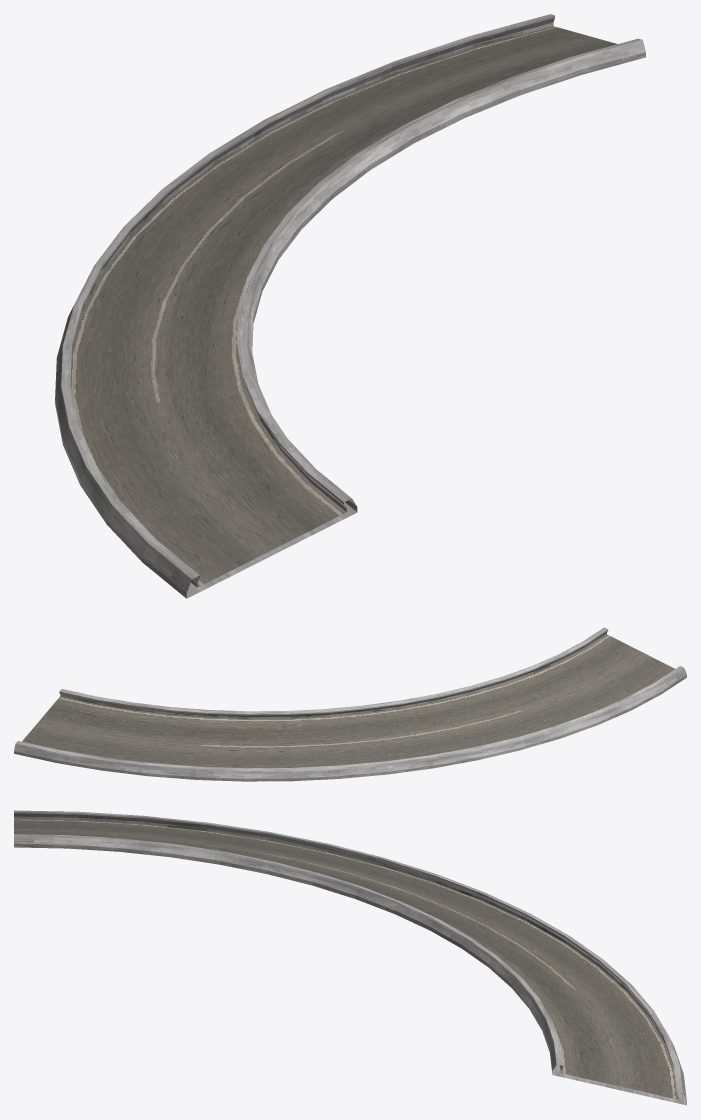
Rendered from turn-right5x5.glb.
The picture shows the model from 3 angles, top to bottom: view 1: azimuth 30°, elevation 25°; view 2: azimuth 150°, elevation 25°; view 3: azimuth 270°, elevation 25°; orthographic projection. The views are drawn at different scales.
Visible parts, largest first — view 1: road-Turn-HalfBankedLeft-HalfBankedLeft-Even-Right-Size5; view 2: road-Turn-HalfBankedLeft-HalfBankedLeft-Even-Right-Size5; view 3: road-Turn-HalfBankedLeft-HalfBankedLeft-Even-Right-Size5.
Part boxes in pixels (x1,y1,x2,y2): road-Turn-HalfBankedLeft-HalfBankedLeft-Even-Right-Size5: (55,14,645,598); road-Turn-HalfBankedLeft-HalfBankedLeft-Even-Right-Size5: (14,627,686,781); road-Turn-HalfBankedLeft-HalfBankedLeft-Even-Right-Size5: (14,810,686,1105).
Bounding box in the file's own units: 5 × 0.3359 × 5.
2 materials, 2 textured.
